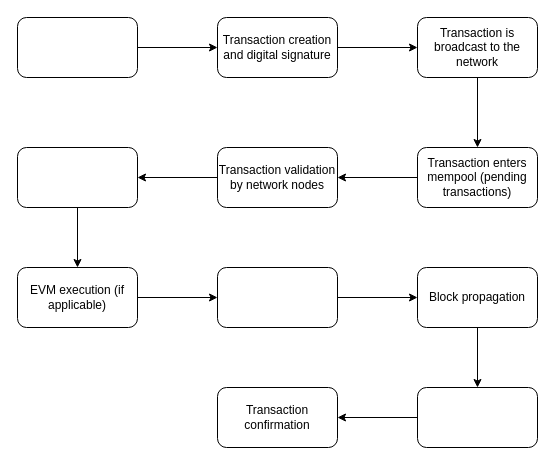
This 555x465 diagram has some shape labels left out. Here are the shapes that lost their labels. From the top down, the centre of each, then its label:
At point 77,47: "User initiates transaction (e.g., sending ETH)".
At point 77,177: "Block assembly".
At point 277,297: "Consensus mechanism".
At point 477,417: "Block appended to the blockchain (state updated)".
